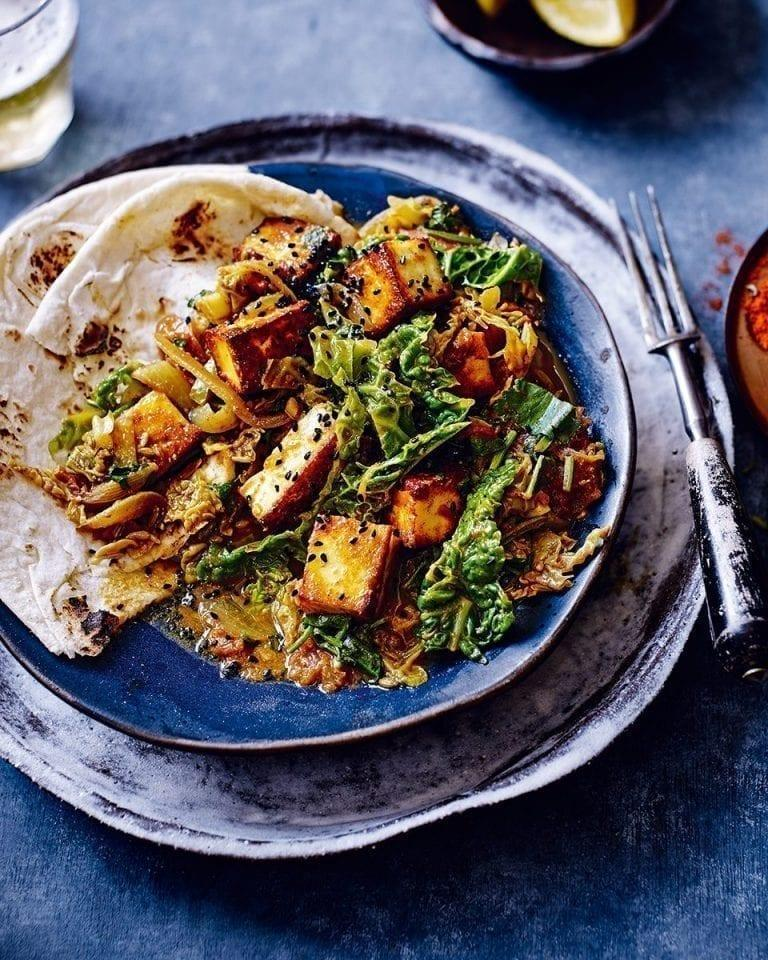paneer: (264, 311, 538, 647)
roti: (0, 181, 228, 309)
